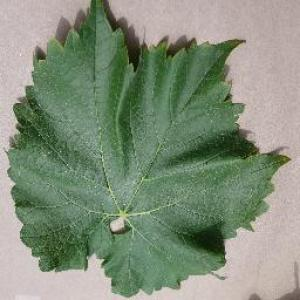Folha: (4, 0, 290, 298)
